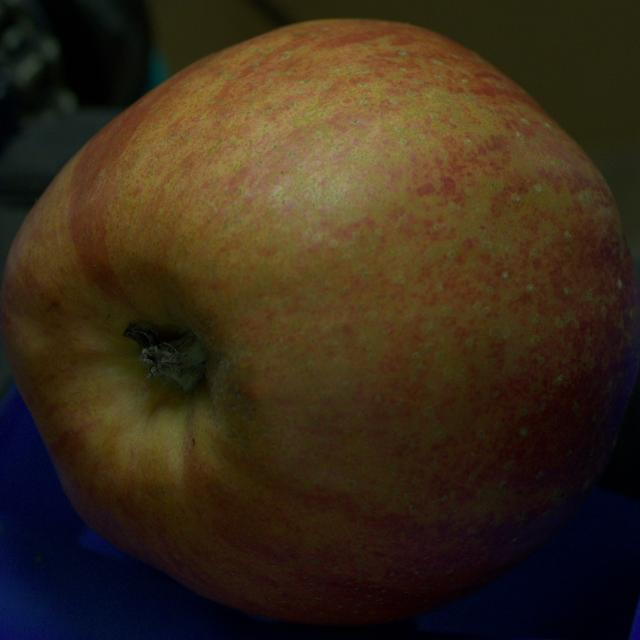apple: (0, 19, 639, 624)
